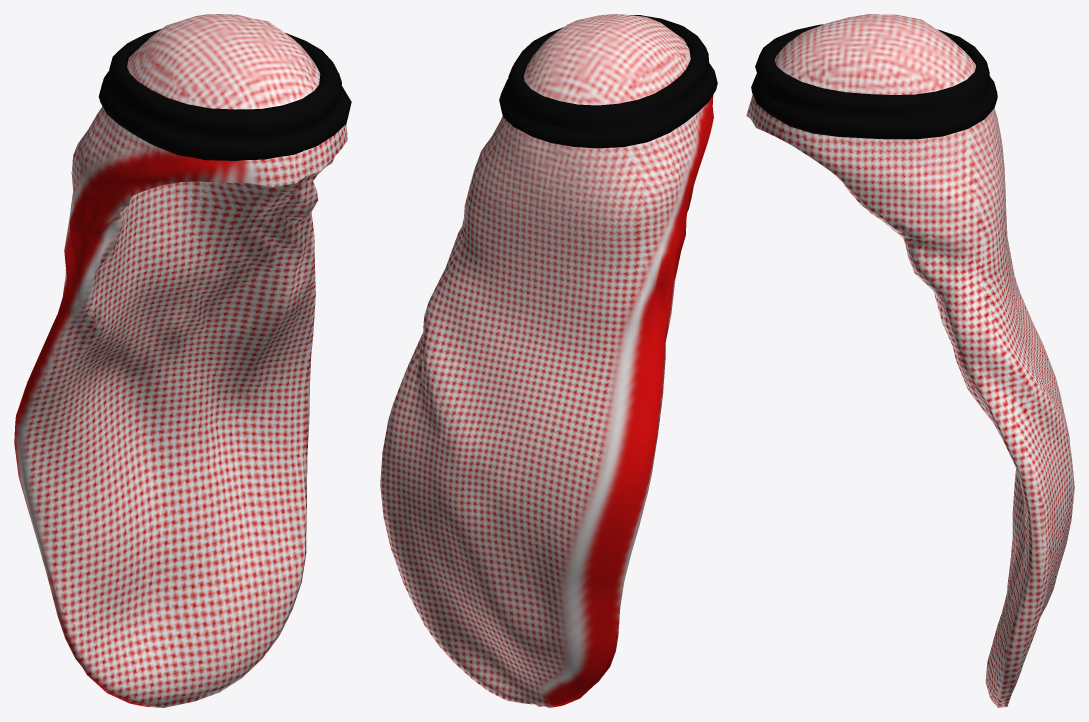
File: Scarf-Thawb.fbx
3 renders of one model, left to right at view 1: azimuth 30°, elevation 25°; view 2: azimuth 150°, elevation 25°; view 3: azimuth 270°, elevation 25°, orthographic. The views are drawn at different scales.
Visible parts, largest first — view 1: HeadScarf; view 2: HeadScarf; view 3: HeadScarf.
Boxes of the visible parts, box(x1,y1,x2,y2) form: HeadScarf: box(14, 14, 351, 707); HeadScarf: box(380, 14, 717, 707); HeadScarf: box(746, 14, 1074, 707).
Bounding box in the file's own units: 26.54 × 61.89 × 27.95.
Materials: 1 (1 with a texture image).
